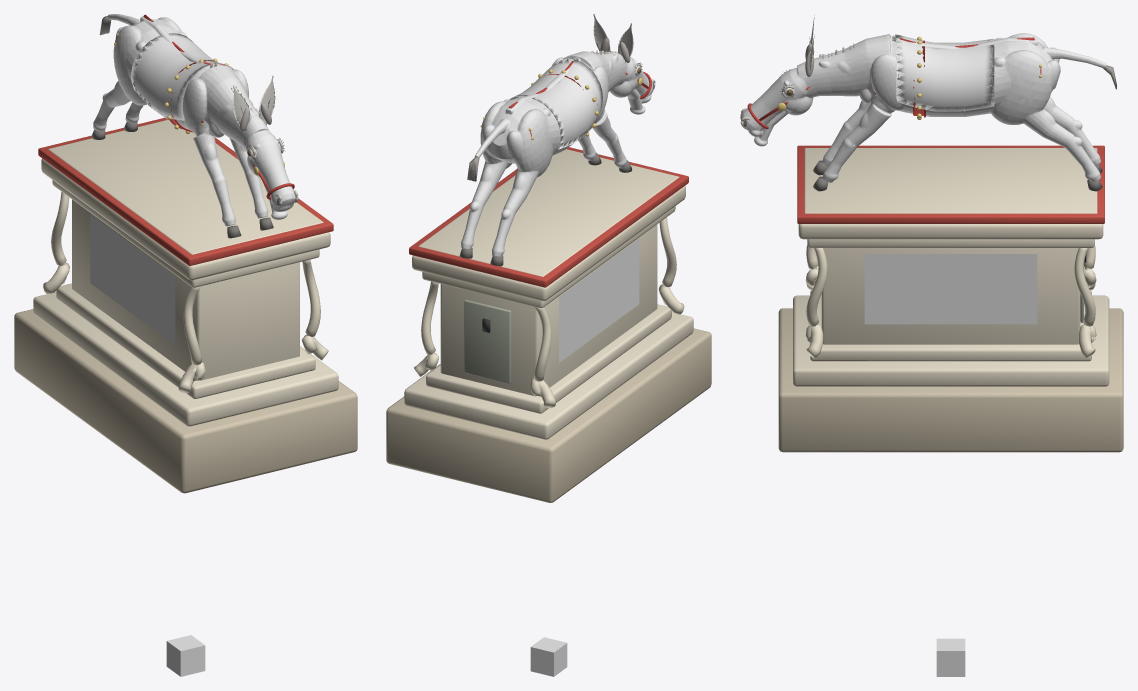
File: AR_Ezeltje.fbx
3 views of the same model, side by side, from view 1: azimuth 30°, elevation 25°; view 2: azimuth 150°, elevation 25°; view 3: azimuth 270°, elevation 25° (orthographic). The views are drawn at different scales.
Visible parts, largest first — view 1: static__MAT_beton_0, static__MAT_ijssel_0, static__TEX_ezel_0, static__TEX_ezel_2, static__TEX_bord_0, static__MAT_rood_0, static__TEX_dekje_0, static__TEX_ezel_1, static__TEX_ezel_3, static__MAT_anker_0, static__MAT_ezelhuid_0, static__MAT_hoef_0; view 2: static__MAT_beton_0, static__MAT_ijssel_0, static__TEX_ezel_0, static__TEX_ezel_2, static__TEX_bord_0, static__MAT_rood_0, static__TEX_dekje_0, static__MAT_deur_0, static__TEX_ezel_1, static__TEX_ezel_3, static__MAT_anker_0, static__MAT_ezelhuid_0 (+1 smaller); view 3: static__MAT_beton_0, static__MAT_ijssel_0, static__TEX_bord_0, static__TEX_ezel_3, static__TEX_ezel_1, static__TEX_dekje_0, static__MAT_rood_0, static__TEX_ezel_0, static__TEX_ezel_2, static__MAT_anker_0, static__TEX_ezel_4.
Boxes of the visible parts, x1,y1,x2,y2 form: static__MAT_beton_0: (33, 120, 338, 426); static__MAT_ijssel_0: (14, 309, 357, 493); static__TEX_ezel_0: (93, 14, 295, 226); static__TEX_ezel_2: (93, 14, 295, 225); static__TEX_bord_0: (90, 214, 175, 344); static__MAT_rood_0: (38, 117, 333, 265); static__TEX_dekje_0: (131, 33, 233, 120); static__TEX_ezel_1: (112, 14, 290, 226); static__TEX_ezel_3: (119, 14, 287, 218); static__MAT_anker_0: (166, 635, 205, 676); static__MAT_ezelhuid_0: (232, 75, 298, 206); static__MAT_hoef_0: (91, 121, 273, 238); static__MAT_beton_0: (404, 149, 693, 439); static__MAT_ijssel_0: (386, 328, 711, 502); static__TEX_ezel_0: (476, 51, 653, 257); static__TEX_ezel_2: (476, 51, 638, 257); static__TEX_bord_0: (559, 239, 639, 362); static__MAT_rood_0: (409, 147, 688, 287); static__TEX_dekje_0: (509, 58, 602, 149); static__MAT_deur_0: (464, 299, 511, 383); static__TEX_ezel_1: (461, 50, 653, 249); static__TEX_ezel_3: (461, 51, 630, 249); static__MAT_anker_0: (530, 637, 567, 676); static__MAT_ezelhuid_0: (593, 14, 655, 90); static__MAT_beton_0: (793, 148, 1109, 386); static__MAT_ijssel_0: (778, 308, 1123, 452); static__TEX_bord_0: (864, 254, 1037, 324); static__TEX_ezel_3: (746, 37, 1101, 182); static__TEX_ezel_1: (742, 36, 1106, 182); static__TEX_dekje_0: (896, 34, 994, 111); static__MAT_rood_0: (797, 145, 1104, 223); static__TEX_ezel_0: (740, 33, 1104, 165); static__TEX_ezel_2: (740, 33, 1106, 165); static__MAT_anker_0: (936, 638, 965, 676); static__TEX_ezel_4: (1030, 46, 1106, 110).
Size of the model in its own units: 1.44 by 4.97 by 2.67.
